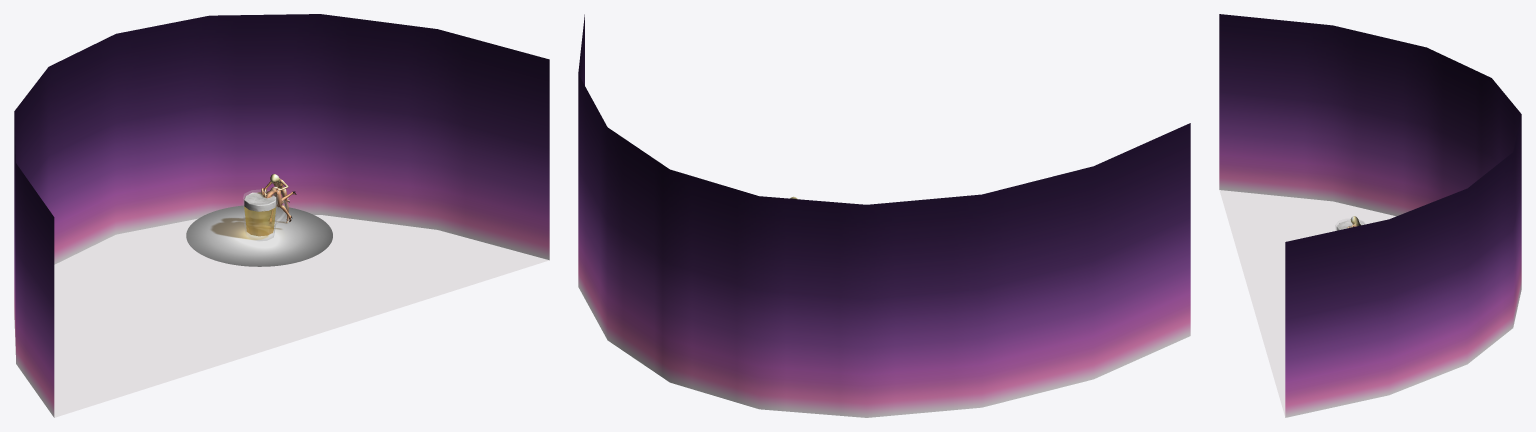
Rendered from beer2.fbx.
The picture shows the model from 3 angles, left to right: view 1: azimuth 30°, elevation 25°; view 2: azimuth 150°, elevation 25°; view 3: azimuth 270°, elevation 25°; orthographic projection. The views are drawn at different scales.
Visible parts, largest first — view 1: back, mark1, addENV, trans, fome; view 2: back; view 3: back.
Boxes of the visible parts, left/top/right/bottom form: back: left=14, top=14, right=549, bottom=417; mark1: left=186, top=205, right=332, bottom=266; addENV: left=243, top=189, right=287, bottom=240; trans: left=244, top=205, right=276, bottom=236; fome: left=244, top=192, right=276, bottom=211; back: left=578, top=14, right=1190, bottom=417; back: left=1219, top=14, right=1521, bottom=417.
Bounding box in the file's own units: 1753 × 631 × 982.
Materials: 7 (6 with a texture image).
